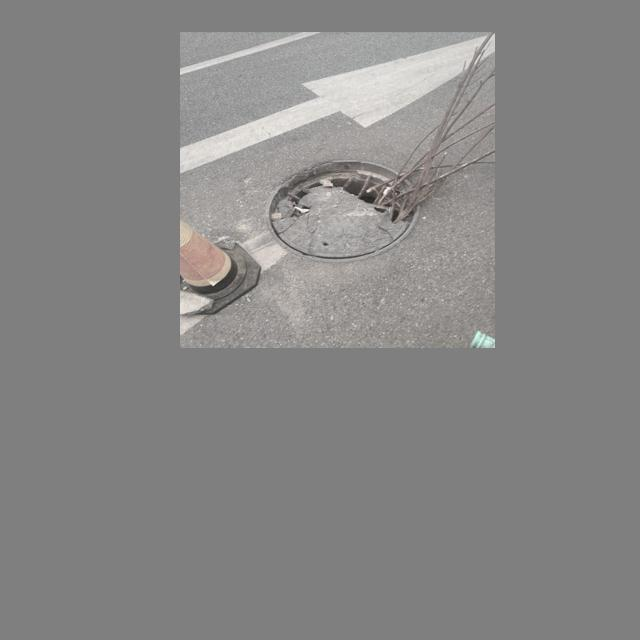broke: (259, 150, 430, 263)
